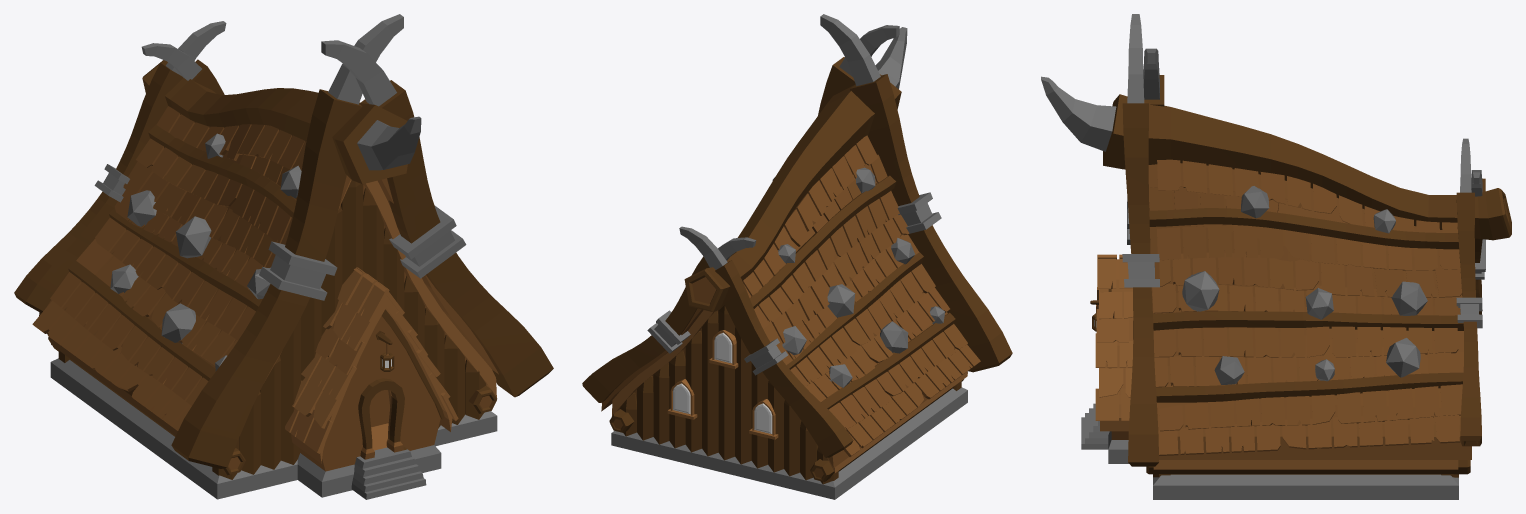
File: B_BaseA.fbx
The picture shows the model from 3 angles, left to right: view 1: azimuth 30°, elevation 25°; view 2: azimuth 150°, elevation 25°; view 3: azimuth 270°, elevation 25°; orthographic projection. The views are drawn at different scales.
Visible parts, largest first — view 1: B_BaseA; view 2: B_BaseA; view 3: B_BaseA.
Boxes of the visible parts, x1,y1,x2,y2 form: B_BaseA: (14,14,553,499); B_BaseA: (582,14,1012,499); B_BaseA: (1041,14,1511,499).
Size of the model in its own units: 922 by 1060 by 1120.
